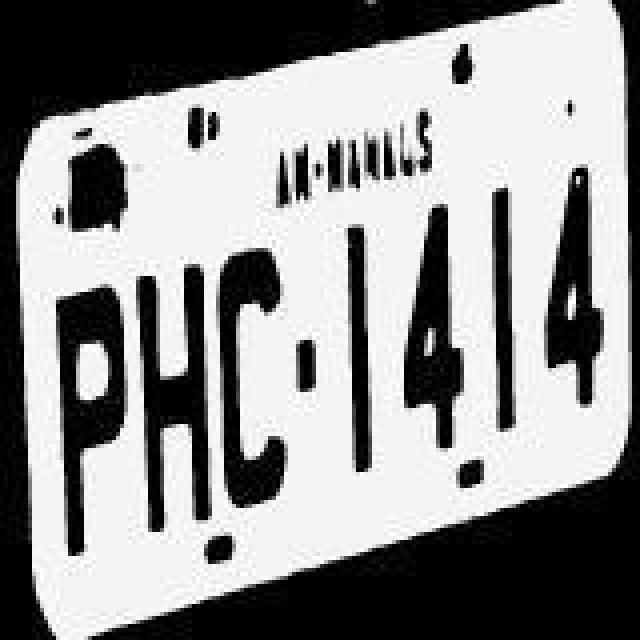1: (324, 222, 380, 498), (482, 164, 526, 444)
4: (402, 192, 478, 464), (544, 146, 608, 430)
C: (218, 240, 294, 512)
H: (136, 264, 216, 536)
P: (48, 278, 128, 554)
